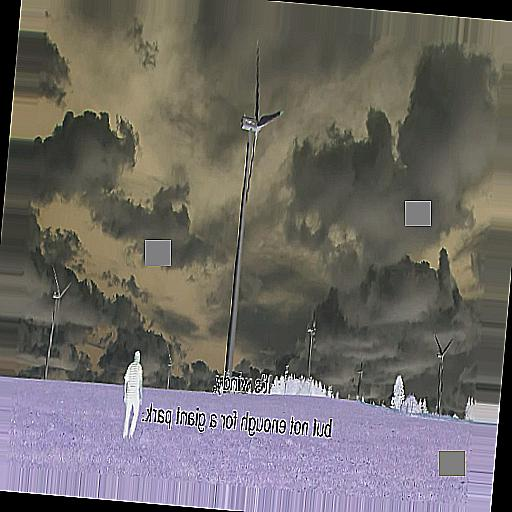wind turbine: (219, 38, 289, 388), (44, 262, 71, 380), (433, 334, 455, 421)
